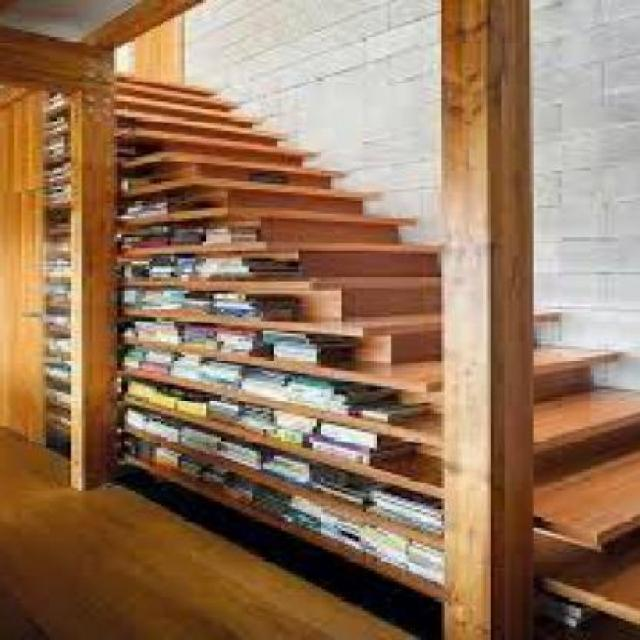stair: (60, 26, 637, 632)
